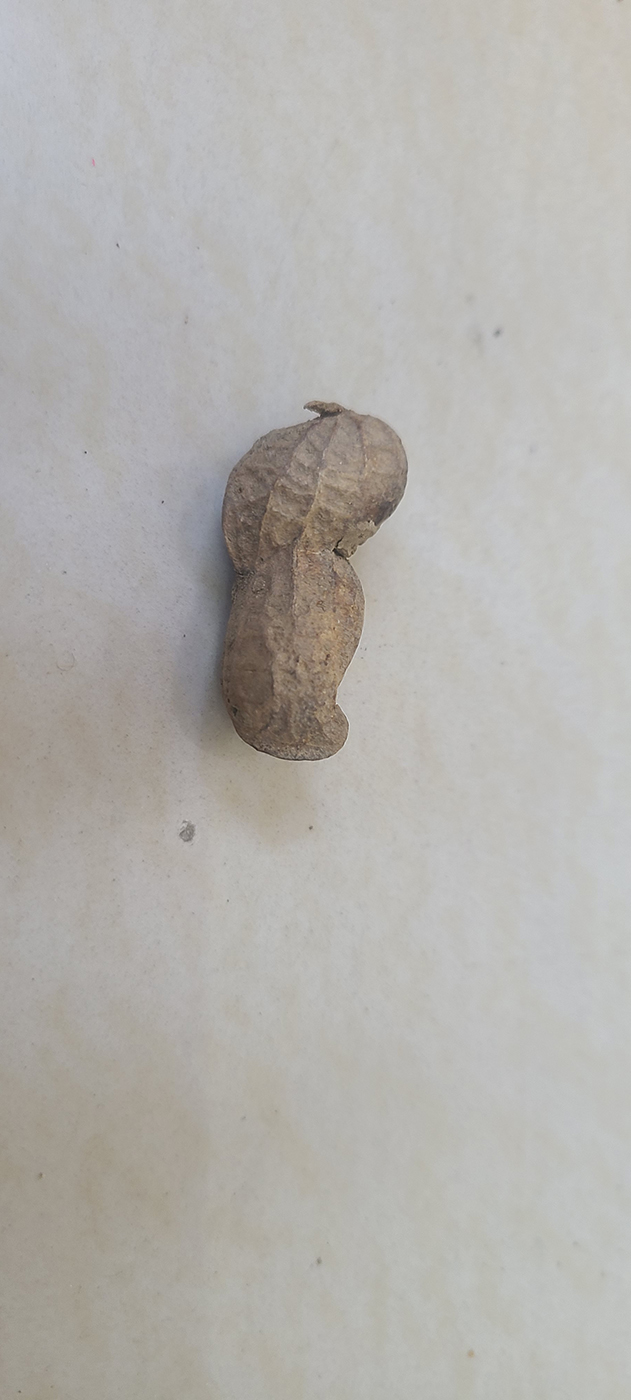l: (214, 403, 410, 760)
